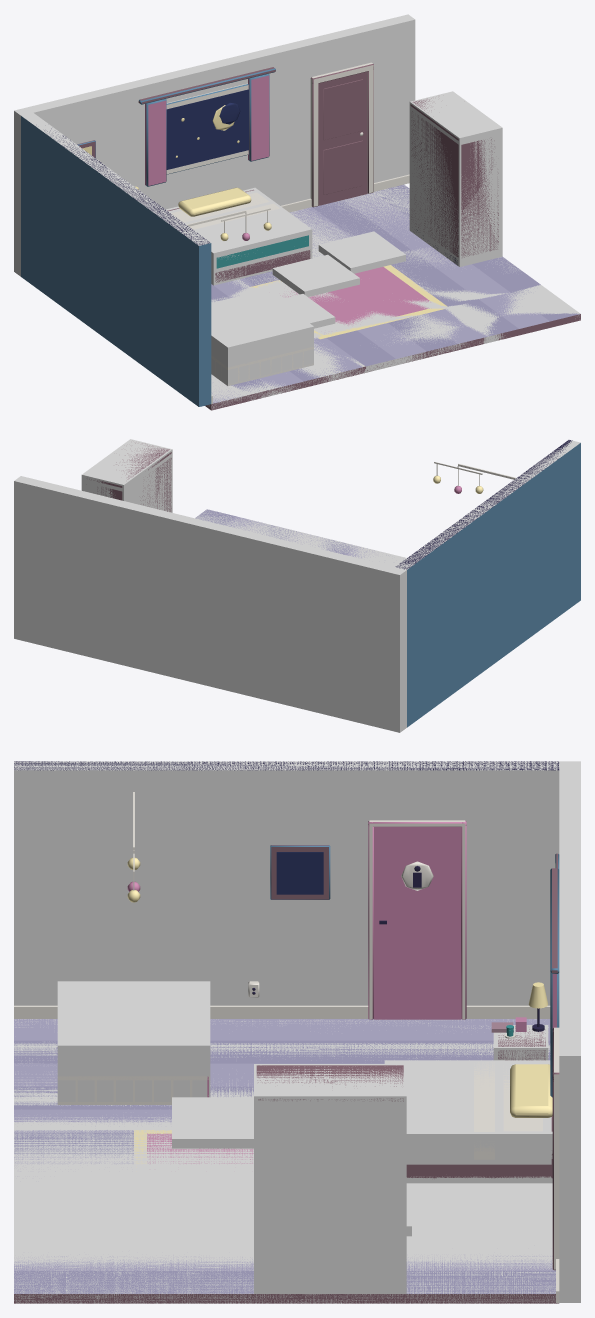
Rendered from chambre_night.glb.
3 renders of one model, top to bottom at view 1: azimuth 30°, elevation 25°; view 2: azimuth 150°, elevation 25°; view 3: azimuth 270°, elevation 25°, orthographic. The views are drawn at different scales.
Visible parts, largest first — view 1: wall_back, COL_wall_back, floor, NAV_floor, COL_wardrobe, door_frame, ZONE_safe_crib, wardrobe, COL_bed, bed, ZONE_creak_board_02, ZONE_creak_board_03 (+5 smaller); view 2: COL_wall_back, wall_back, COL_wardrobe, NAV_floor, COL_wall_side, floor, wardrobe, crib_mobile; view 3: COL_wall_side, NAV_floor, floor, COL_wardrobe, toilet_door, ZONE_safe_crib, wall_back, COL_bed, COL_wall_back, bed, ZONE_creak_board_01, wardrobe (+5 smaller).
Part boxes in pixels (<box>): wall_back: <box>21,67,409,406</box>; COL_wall_back: <box>14,14,415,276</box>; floor: <box>205,184,580,410</box>; NAV_floor: <box>207,185,580,410</box>; COL_wardrobe: <box>409,91,502,266</box>; door_frame: <box>310,62,373,207</box>; ZONE_safe_crib: <box>211,290,313,385</box>; wardrobe: <box>410,98,498,265</box>; COL_bed: <box>166,187,312,285</box>; bed: <box>167,189,310,282</box>; ZONE_creak_board_02: <box>272,254,359,296</box>; ZONE_creak_board_03: <box>318,231,405,273</box>; COL_wall_back: <box>14,476,406,732</box>; wall_back: <box>395,440,580,727</box>; COL_wardrobe: <box>81,439,172,512</box>; NAV_floor: <box>195,509,406,566</box>; COL_wall_side: <box>395,440,580,569</box>; floor: <box>195,509,388,558</box>; wardrobe: <box>89,443,171,511</box>; crib_mobile: <box>433,462,515,493</box>; COL_wall_side: <box>14,761,559,1005</box>; NAV_floor: <box>14,1019,558,1303</box>; floor: <box>14,1019,558,1303</box>; COL_wardrobe: <box>254,1064,406,1293</box>; toilet_door: <box>368,820,466,1019</box>; ZONE_safe_crib: <box>57,981,210,1103</box>; wall_back: <box>14,761,559,1302</box>; COL_bed: <box>384,1060,552,1183</box>; COL_wall_back: <box>559,761,580,1302</box>; bed: <box>406,1062,552,1178</box>; ZONE_creak_board_01: <box>172,1097,253,1148</box>; wardrobe: <box>256,1065,403,1101</box>.
Bounding box in the file's own units: 6.4 × 2.6 × 5.2.
